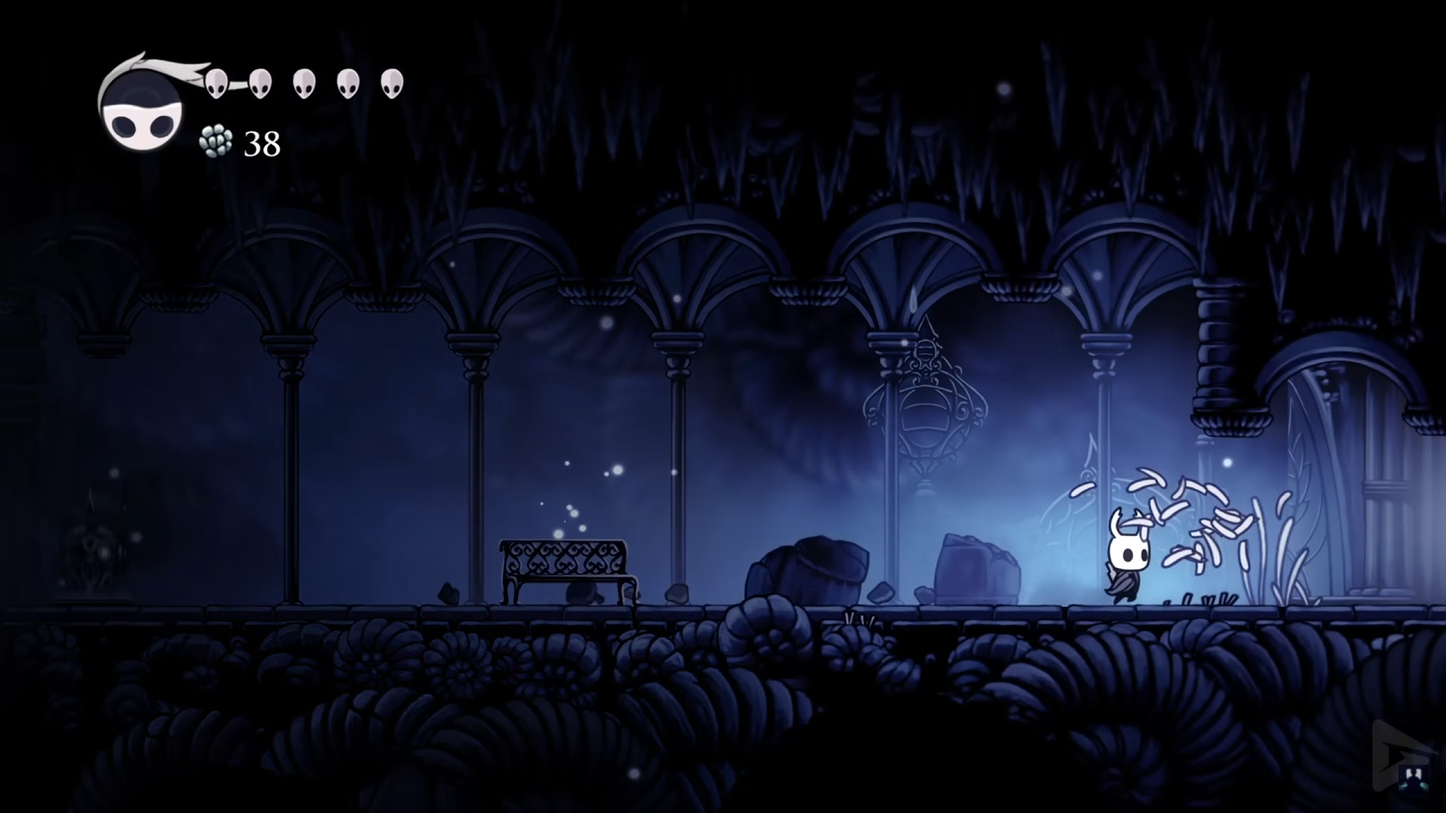HK: (1100, 508, 1152, 607)
